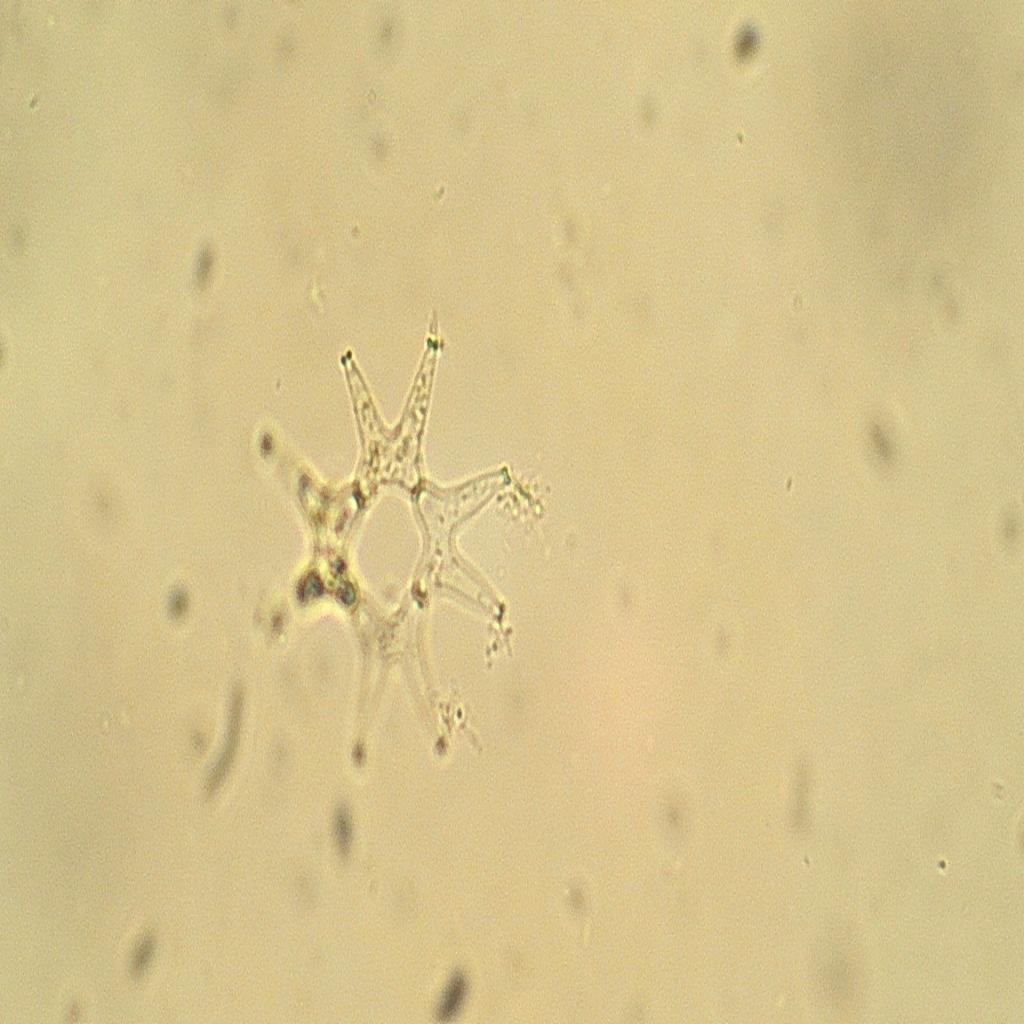Pediastrum_75TH: (234, 326, 540, 786)
